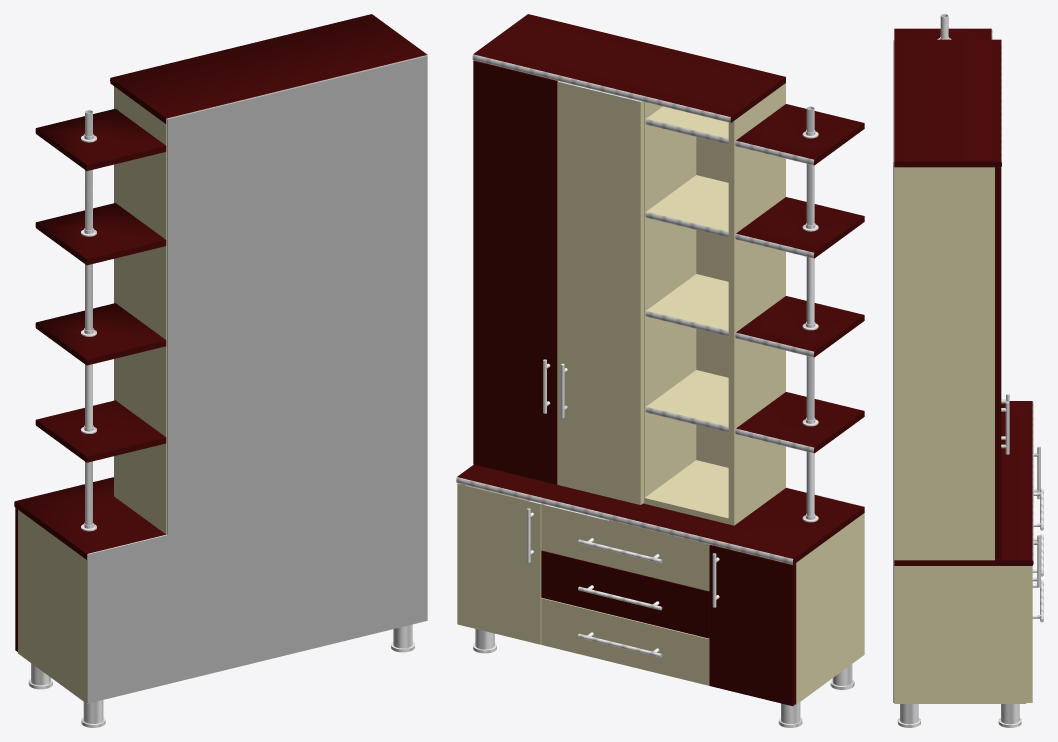
3 views of the same model, side by side, from view 1: azimuth 30°, elevation 25°; view 2: azimuth 150°, elevation 25°; view 3: azimuth 270°, elevation 25° (orthographic). The views are drawn at different scales.
Visible parts, largest first — view 1: bibliotec; view 2: bibliotec; view 3: bibliotec.
Boxes of the visible parts, box(x1,y1,x2,y2) form: bibliotec: box(14, 14, 427, 727); bibliotec: box(456, 14, 864, 727); bibliotec: box(893, 14, 1040, 727).
Size of the model in its own units: 1.2 by 2 by 0.48.
12 materials, 9 textured.
